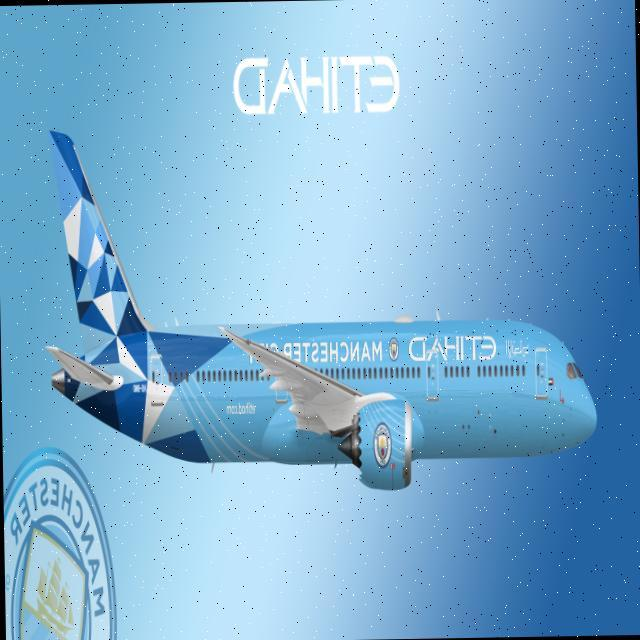Etihad Airways: (232, 40, 403, 126), (408, 330, 529, 365)
